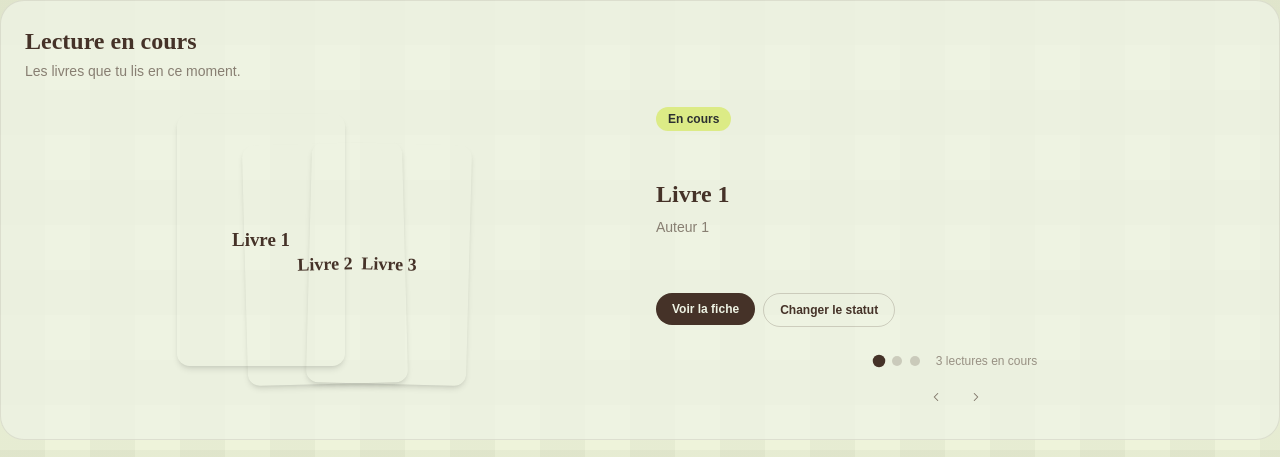
CurrentlyReading › resets automatic rotation timing after manual navigation
Step 1. Click the button named "Lecture suivante" → (976, 397), box 958,379 -> 994,415
Wait 5000 ms
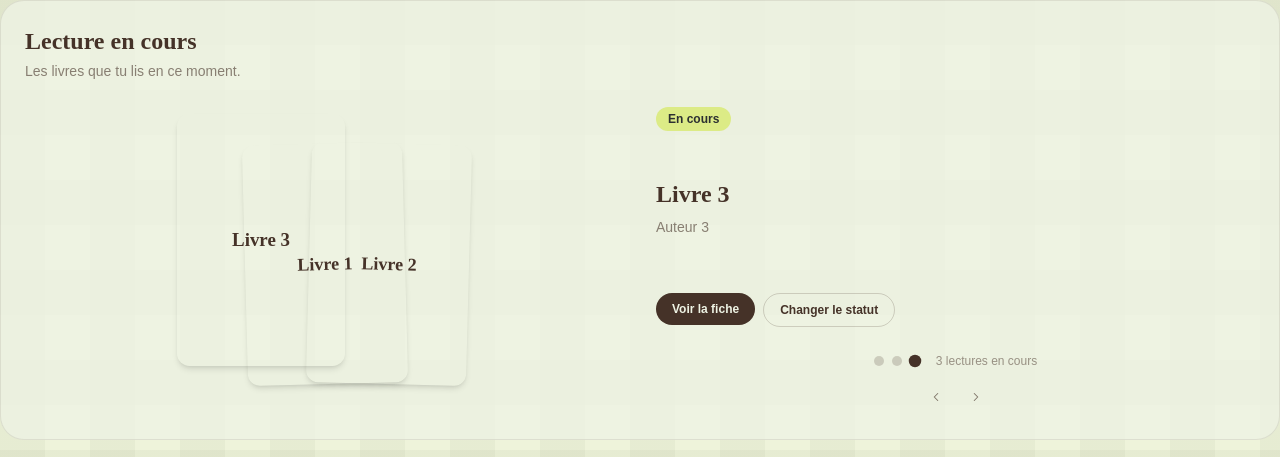
Expected: the heading "Livre 3" is shown, 656,181 -> 730,207
